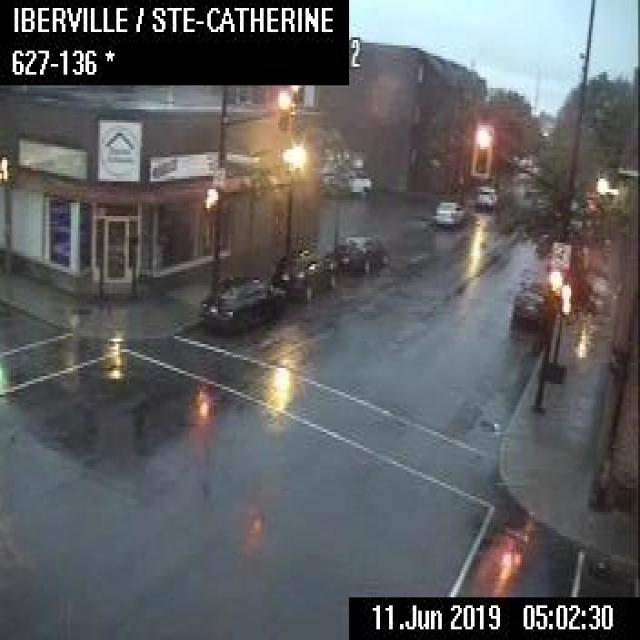vehicle: (200, 272, 287, 333), (269, 246, 338, 298), (333, 233, 388, 272), (512, 276, 545, 322), (321, 166, 371, 196), (434, 198, 464, 225), (474, 183, 496, 206)
